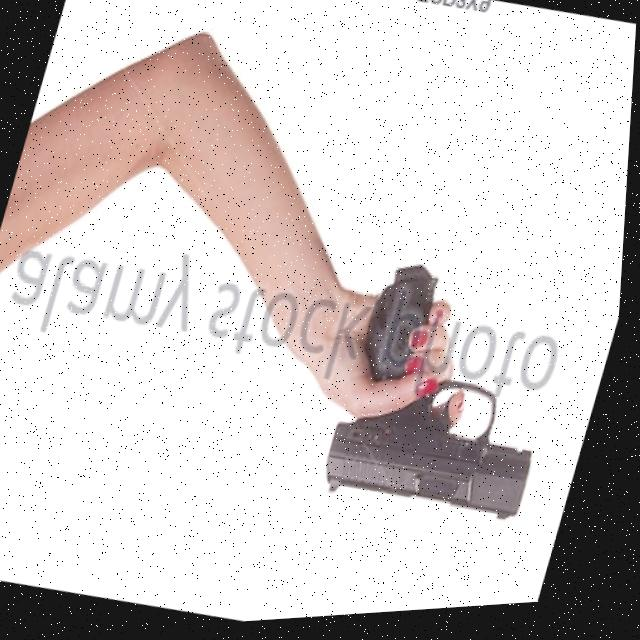pistol: (320, 355, 558, 540)
